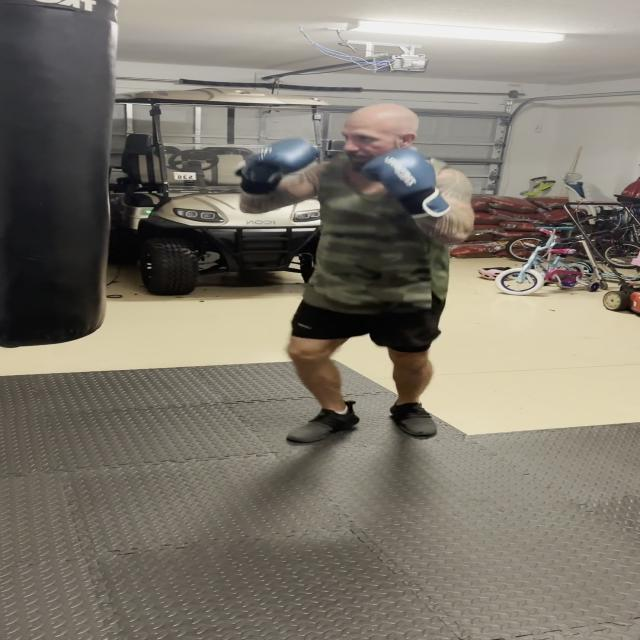bag: (0, 1, 130, 350)
no punch: (230, 95, 478, 248)
